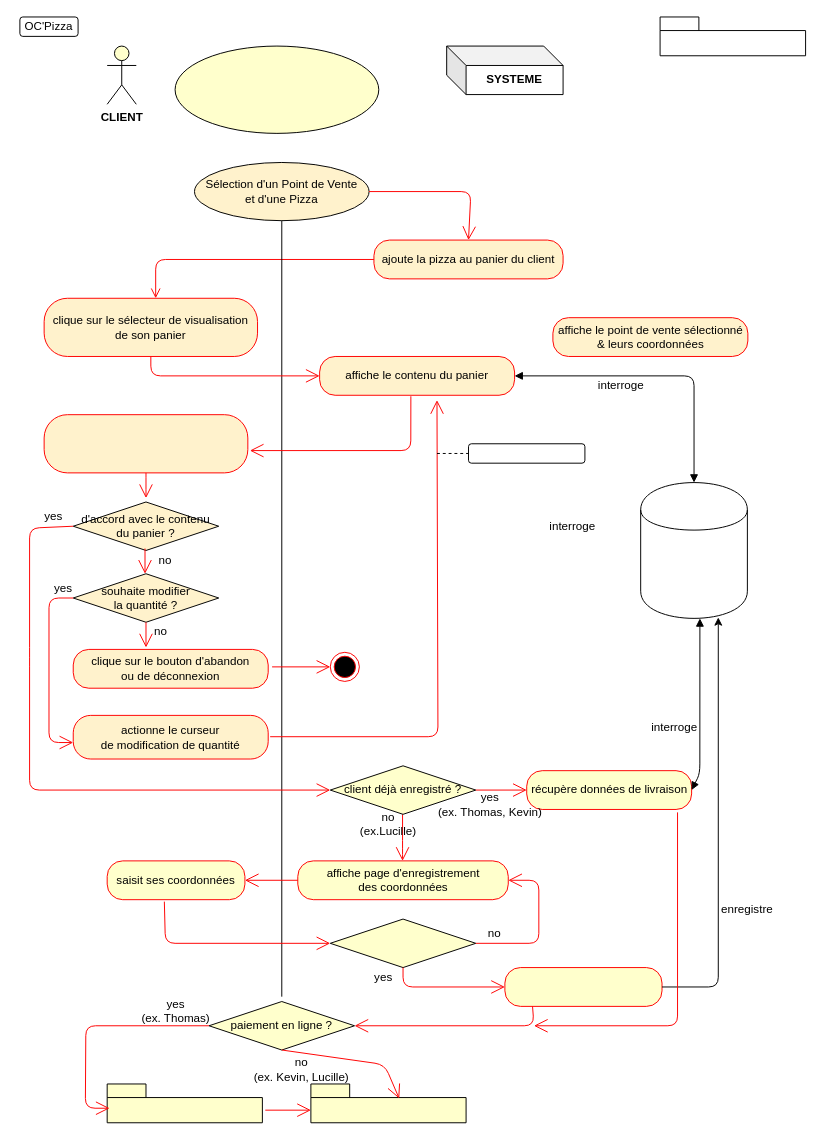
Image size: 823x1141. Some labels were removed from this diagram. The shapes that lost their labels are listed below. From the top down, each one's box as (x1, y1, x2, y2) in pixels, then its label:
(659, 16, 806, 56): Gestion des Commandes
(174, 45, 379, 133): VALIDATION d'une COMMANDE
(43, 414, 248, 473): visualise et vérifie les éléments constitutifs du panier
(468, 443, 585, 463): nouvelle quantité
(640, 482, 747, 618): Base de Données
(329, 918, 476, 968): Format des données correct ?
(504, 967, 662, 1006): enregistre données du client
(106, 1083, 262, 1123): Gestion des Règlements
(310, 1083, 466, 1123): Gestion des Préparations
